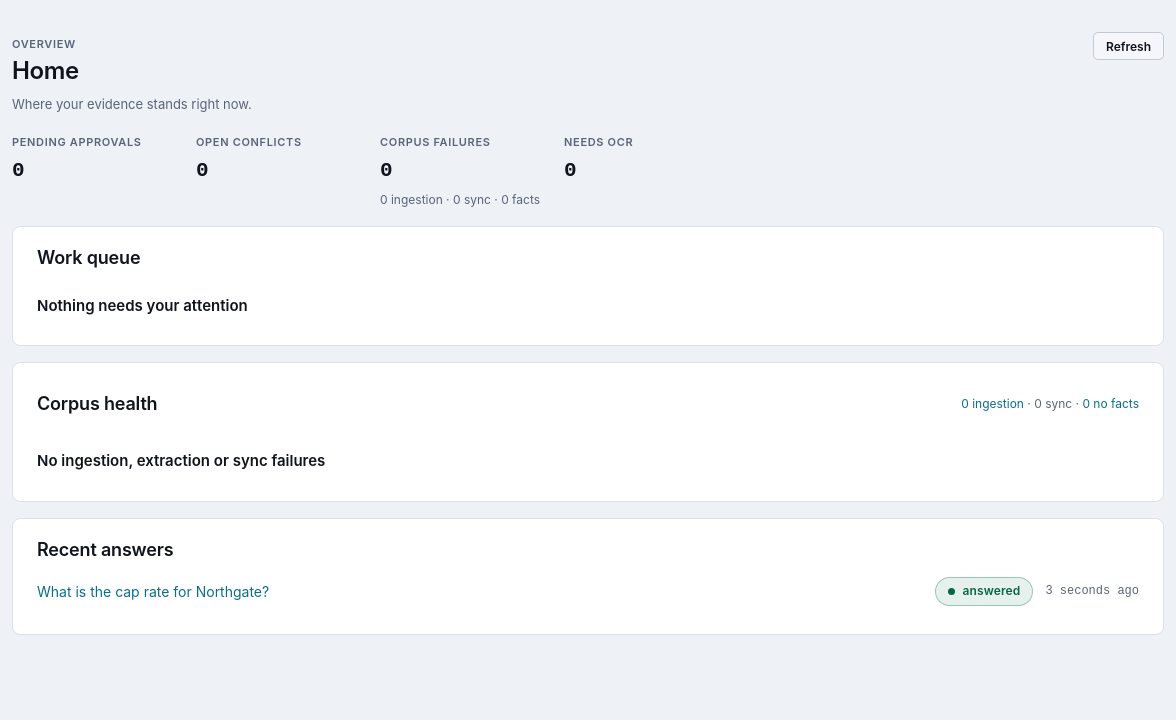
Scenario: HomePage › reloads every section from the refresh control, keeping existing content on screen and blocking a second click while busy
Expected: the heading "Work queue" is shown, [37,247,140,270]
Click the button "Refresh" at (1128, 46), box [1093,32,1164,60]
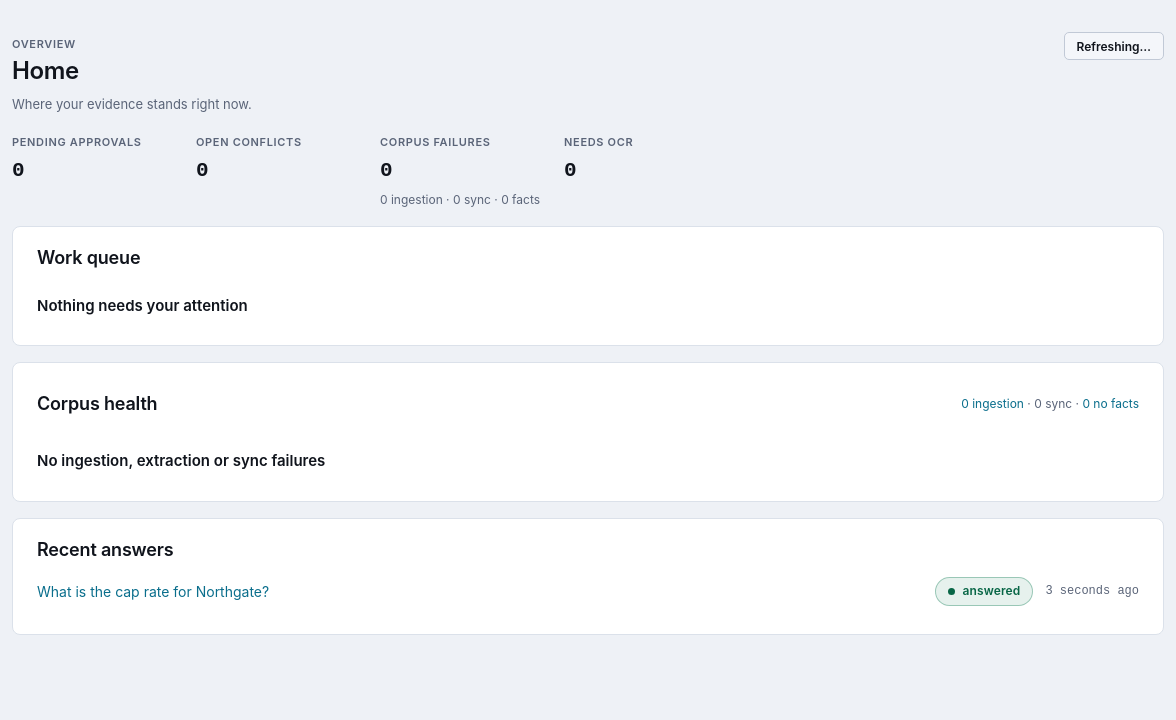
Expected: the heading "Work queue" is shown, [37,247,140,270]
Expected: the button "Refreshing…" has attribute aria-busy="true"
Click the button "Refreshing…" at (1114, 46), box [1064,32,1164,60]
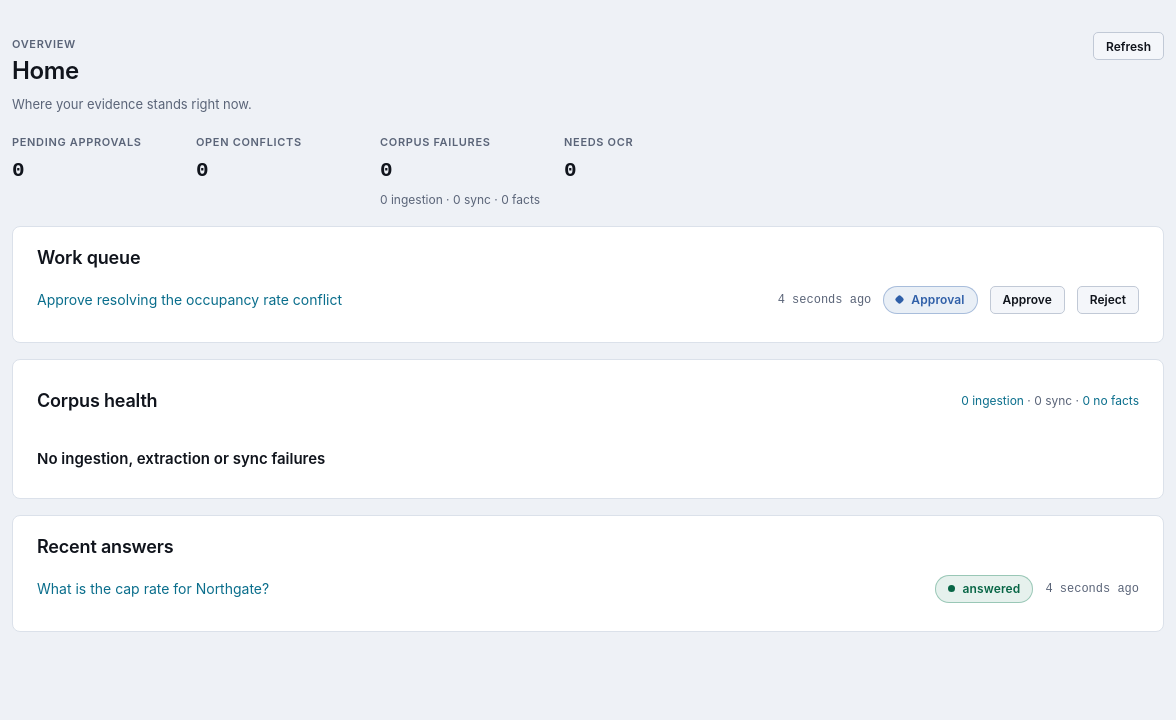
Expected: the link "Approve resolving the occupancy rate conflict" is shown, [37,289,342,311]
